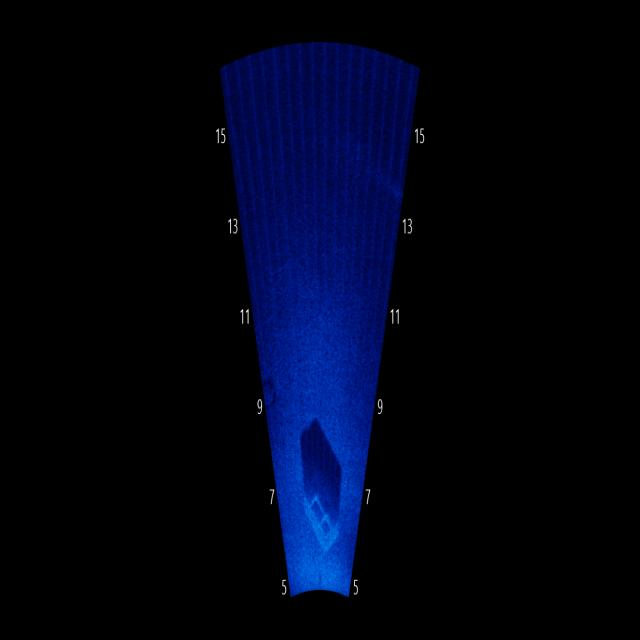square: (301, 480, 344, 558)
